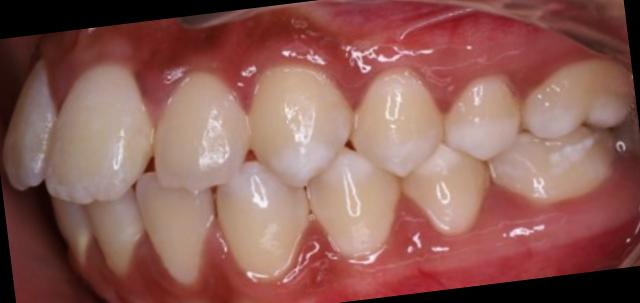canine class I: (195, 43, 411, 297)
molar class I: (468, 58, 640, 218)
